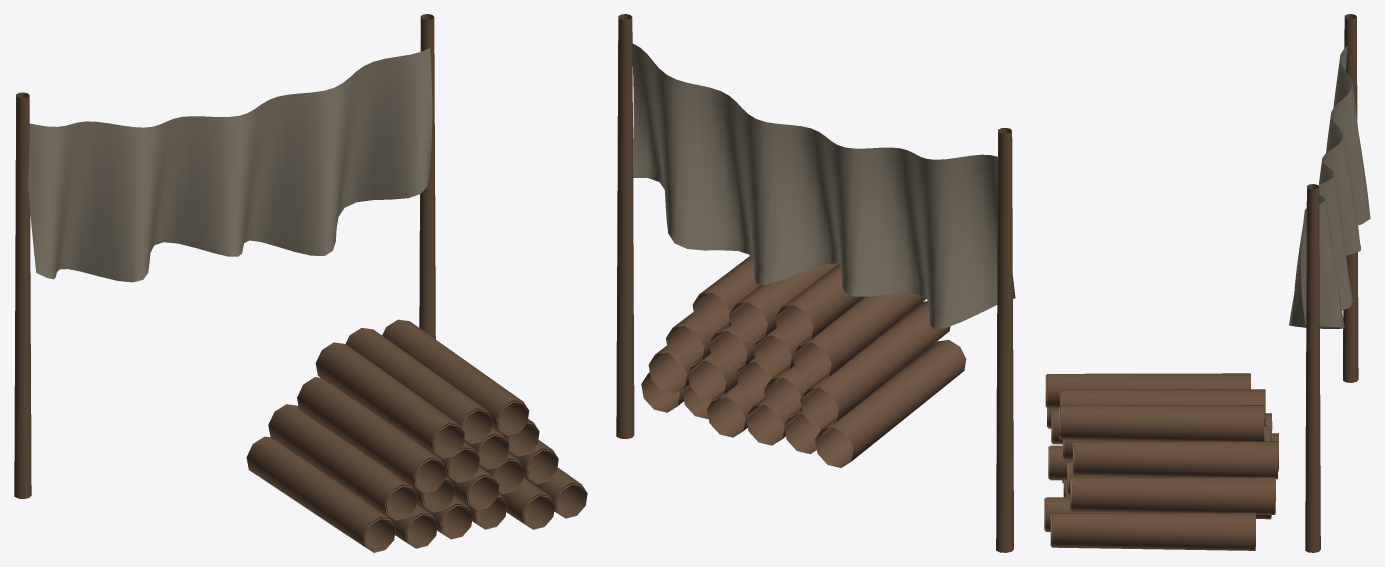
The model's file is YardProps.glb.
The picture shows the model from 3 angles, left to right: view 1: azimuth 30°, elevation 25°; view 2: azimuth 150°, elevation 25°; view 3: azimuth 270°, elevation 25°; orthographic projection. The views are drawn at different scales.
Visible parts, largest first — view 1: YardProps; view 2: YardProps; view 3: YardProps.
Part boxes in pixels (x1,y1,x2,y2): YardProps: (14,14,587,552); YardProps: (616,14,1015,552); YardProps: (1044,14,1370,552).
Bounding box in the file's own units: 2.5 × 2.34 × 1.9.
